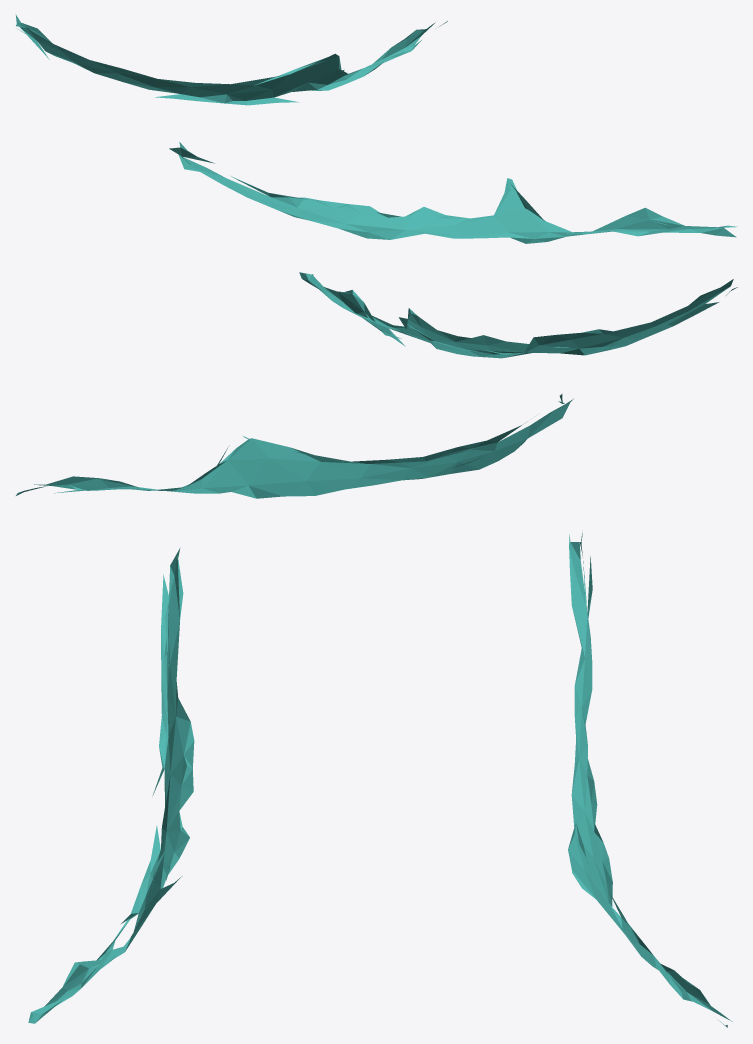
3 views of the same model, one above another, from view 1: azimuth 30°, elevation 25°; view 2: azimuth 150°, elevation 25°; view 3: azimuth 270°, elevation 25° (orthographic). The views are drawn at different scales.
Visible parts, largest first — view 1: 622.obj; view 2: 622.obj; view 3: 622.obj.
Boxes of the visible parts, x1,y1,x2,y2 form: 622.obj: [15, 14, 737, 243]; 622.obj: [16, 272, 737, 498]; 622.obj: [28, 532, 732, 1027].
Bounding box in the file's own units: 2039 × 674 × 2088.
